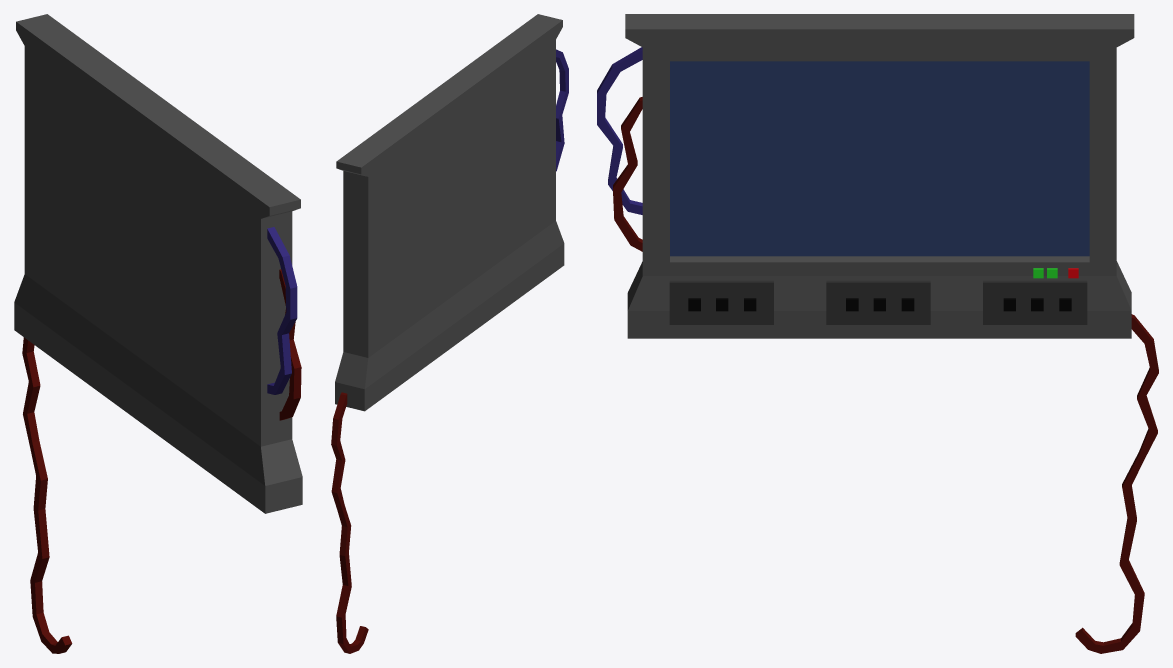
Rendered from Painel-Parede.fbx.
The picture shows the model from 3 angles, left to right: view 1: azimuth 30°, elevation 25°; view 2: azimuth 150°, elevation 25°; view 3: azimuth 270°, elevation 25°; orthographic projection. The views are drawn at different scales.
Parts seen in each view (by area): view 1: Cube, Cube.003, Cube.001, Cube.002; view 2: Cube, Cube.003, Cube.001; view 3: Plane, Cube, Cube.004, Cube.003, Cube.001, Cube.002.
Boxes of the visible parts, box(x1,y1,x2,y2) form: Cube: box(14, 14, 302, 513); Cube.003: box(22, 337, 72, 653); Cube.001: box(267, 227, 297, 394); Cube.002: box(279, 269, 301, 420); Cube: box(335, 14, 564, 411); Cube.003: box(331, 392, 368, 653); Cube.001: box(556, 49, 568, 171); Plane: box(670, 61, 1089, 256); Cube: box(625, 14, 1134, 338); Cube.004: box(669, 280, 1087, 324); Cube.003: box(1075, 314, 1158, 653); Cube.001: box(597, 47, 642, 214); Cube.002: box(613, 97, 642, 251).
Bounding box in the file's own units: 34.51 × 485 × 394.
